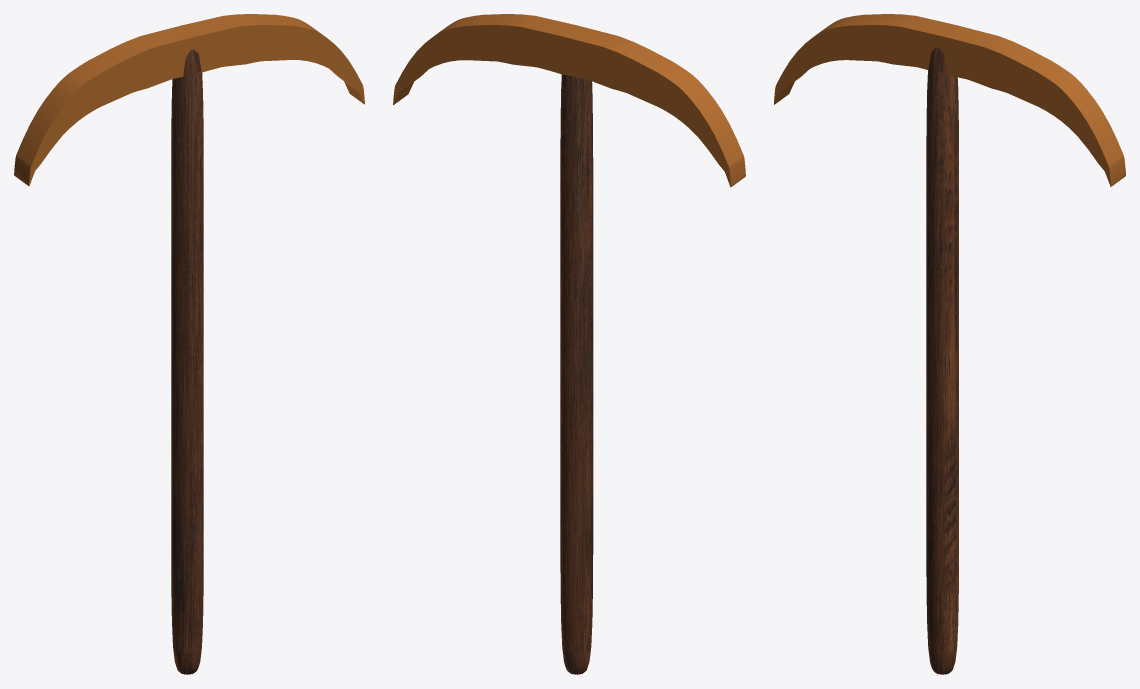
Rendered from copperPickaxe.fbx.
The picture shows the model from 3 angles, left to right: view 1: azimuth 30°, elevation 25°; view 2: azimuth 150°, elevation 25°; view 3: azimuth 330°, elevation 25°; orthographic projection.
Parts seen in each view (by area): view 1: Cylinder, Head; view 2: Cylinder, Head; view 3: Cylinder, Head.
Part boxes in pixels (<box>): Cylinder: <box>171,49,203,674</box>; Head: <box>14,14,364,186</box>; Cylinder: <box>560,74,593,674</box>; Head: <box>393,14,745,187</box>; Cylinder: <box>926,47,958,674</box>; Head: <box>774,14,1125,186</box>.
Bounding box in the file's own units: 194 × 353 × 18.31.
2 materials, 1 textured.
